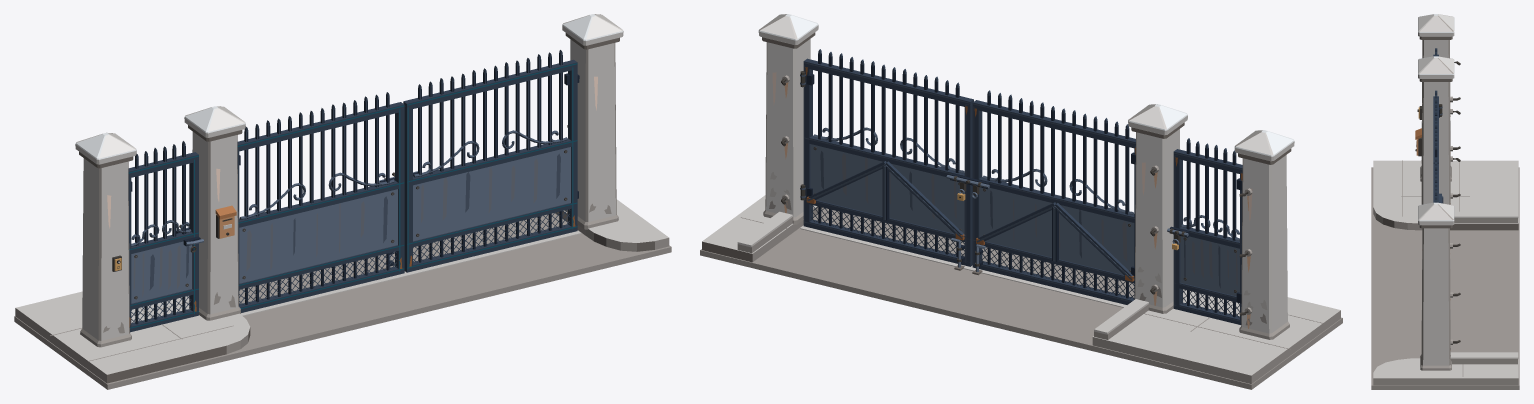
File: gate-driveway.glb
The picture shows the model from 3 angles, left to right: view 1: azimuth 30°, elevation 25°; view 2: azimuth 150°, elevation 25°; view 3: azimuth 270°, elevation 25°; orthographic projection. The views are drawn at different scales.
Visible parts, largest first — view 1: Filipino Gate 05 - Driveway and Pedestrian; view 2: Filipino Gate 05 - Driveway and Pedestrian; view 3: Filipino Gate 05 - Driveway and Pedestrian.
Boxes of the visible parts, x1,y1,x2,y2 form: Filipino Gate 05 - Driveway and Pedestrian: (14,14,671,389); Filipino Gate 05 - Driveway and Pedestrian: (700,14,1342,389); Filipino Gate 05 - Driveway and Pedestrian: (1371,14,1519,389).
Size of the model in its own units: 9.46 by 3.45 by 2.7.
Materials: 1 (1 with a texture image).
